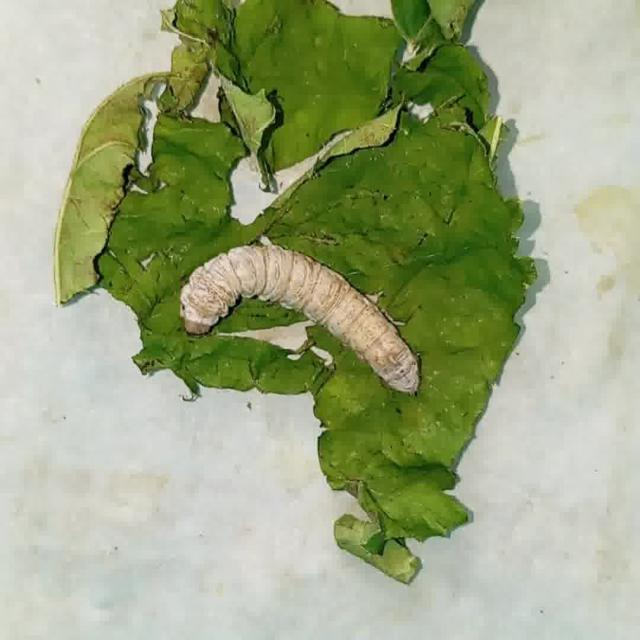Grasserie: (174, 229, 424, 405)
